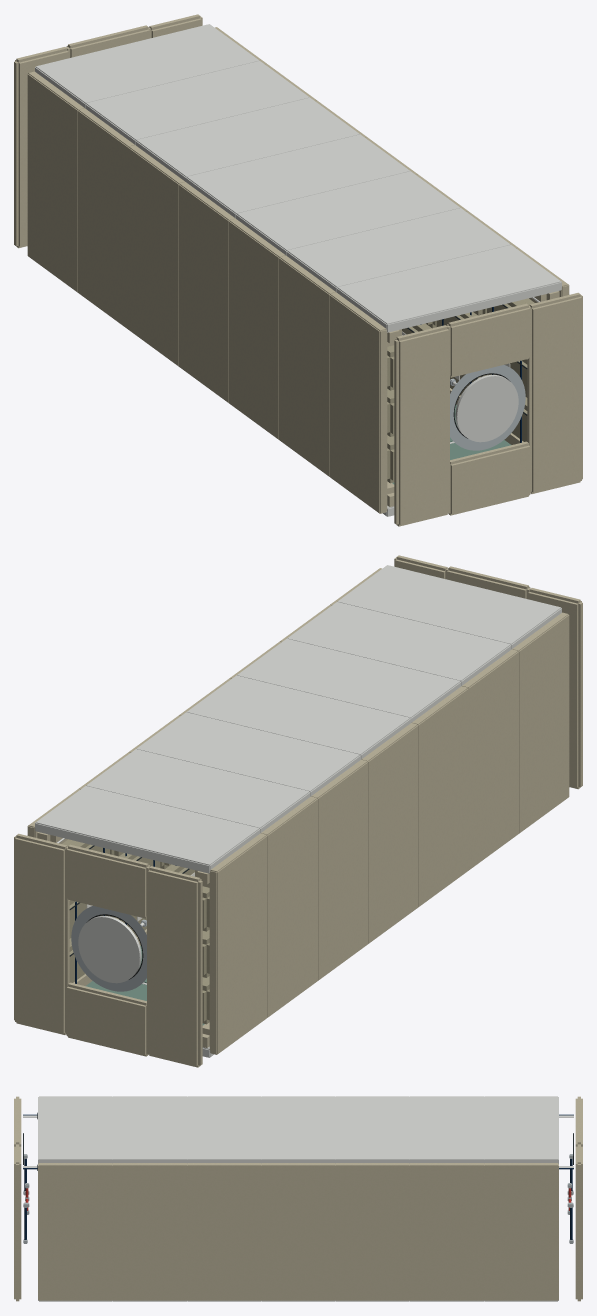
Rendered from zarya_optimized.glb.
3 views of the same model, one above another, from view 1: azimuth 30°, elevation 25°; view 2: azimuth 150°, elevation 25°; view 3: azimuth 270°, elevation 25° (orthographic). The views are drawn at different scales.
Visible parts, largest first — view 1: zarya_interior; view 2: zarya_interior; view 3: zarya_interior.
Part boxes in pixels (x1,y1,x2,y2): zarya_interior: (14, 14, 582, 526); zarya_interior: (14, 555, 582, 1067); zarya_interior: (14, 1096, 582, 1301).
Size of the model in its own units: 3.09 by 3 by 10.84.
11 materials, 3 textured.
